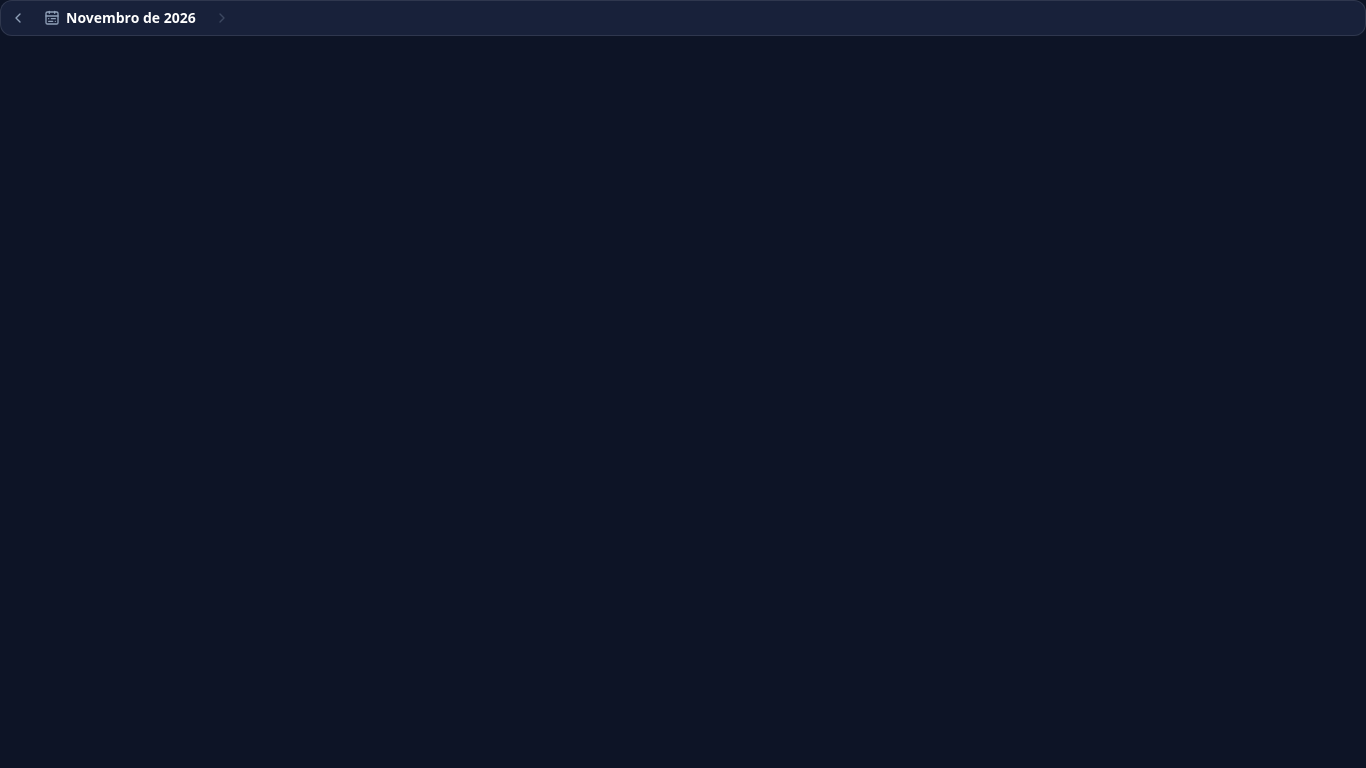
PeriodPicker › escolhe o dia de início e o de fim no calendário
Later steps or results of the test are not shown.
Click the button titled "Escolher o período no calendário".
click(120, 18)  # box [36, 4, 204, 32]
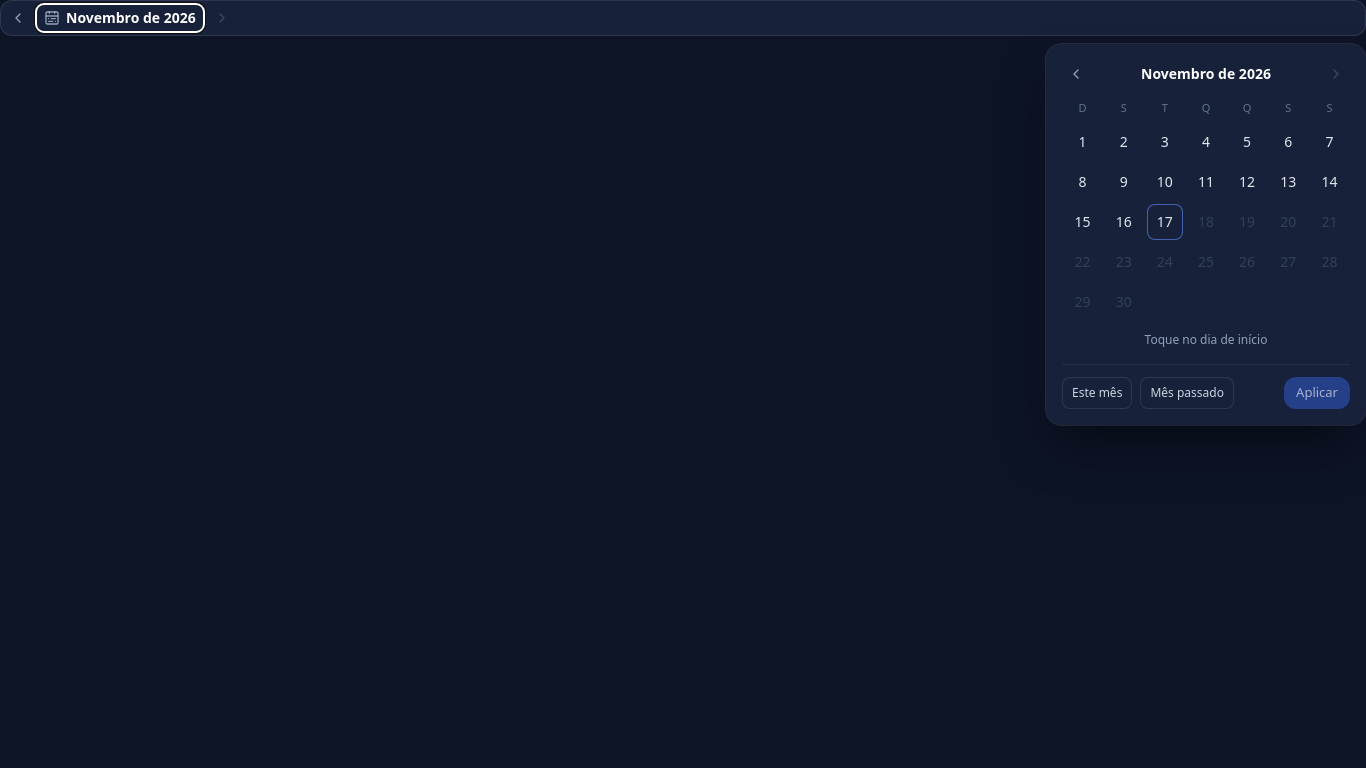
Result: the button named "18/11/2026" is disabled at [1188, 204, 1224, 240]
Click the button named "03/11/2026".
click(1165, 142)  # box [1147, 124, 1183, 160]
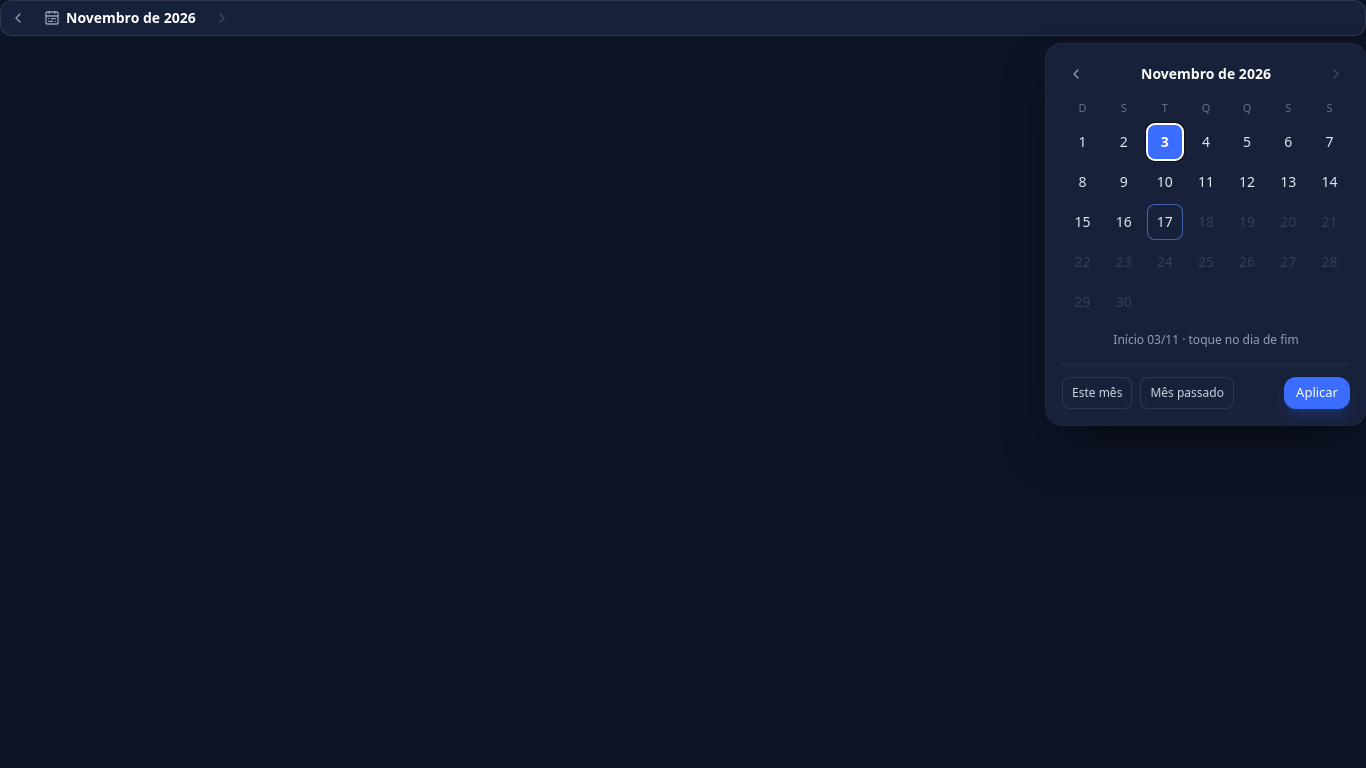
Click the button named "10/11/2026".
click(1165, 182)  # box [1147, 164, 1183, 200]
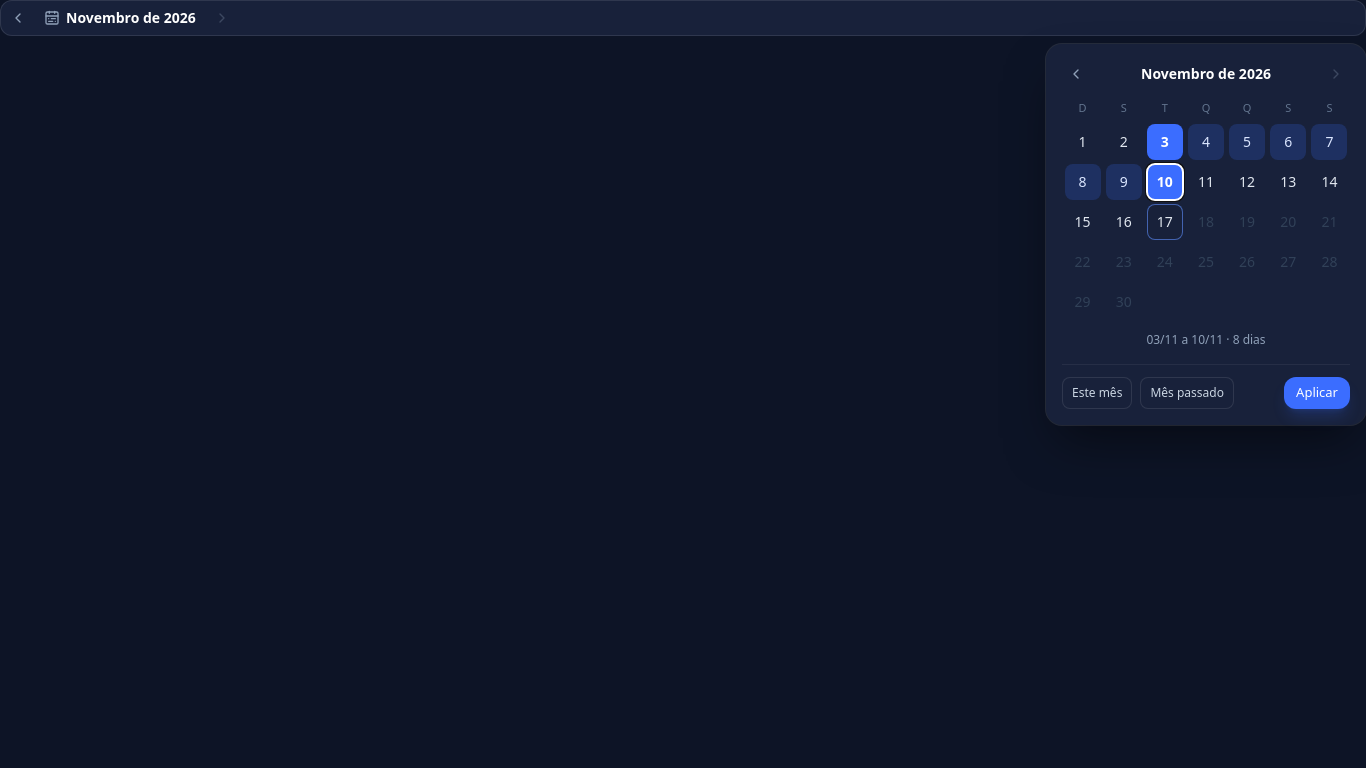
Result: the text "03/11 a 10/11 · 8 dias" is shown at [1146, 331, 1266, 348]
